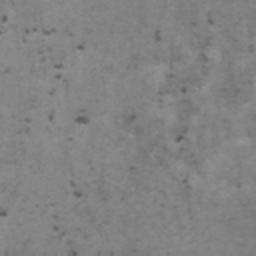Oxide scale of temperature system: (1, 13, 90, 124), (175, 13, 216, 143), (51, 224, 81, 256), (68, 179, 83, 197), (125, 111, 140, 124), (152, 28, 163, 42), (0, 206, 9, 218)
